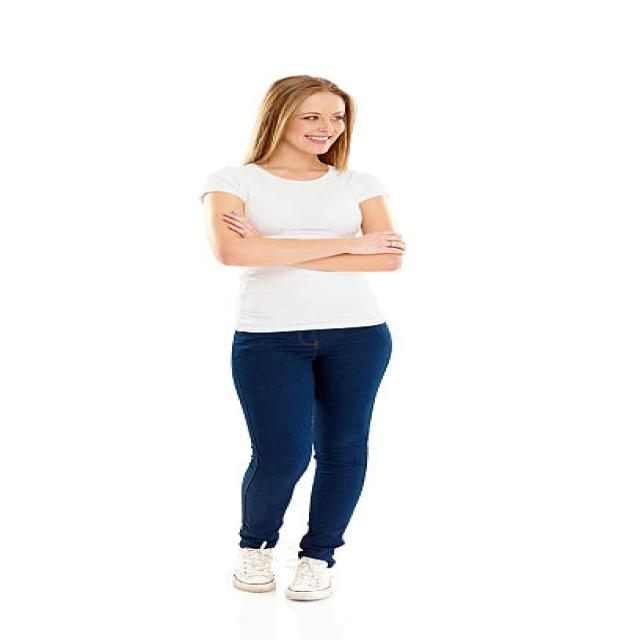Edited images: (187, 63, 438, 614)
